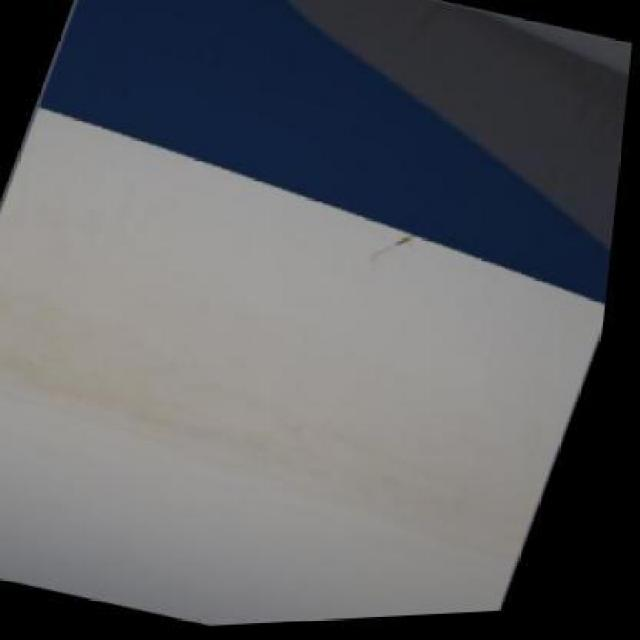Crack: (363, 224, 445, 282)
